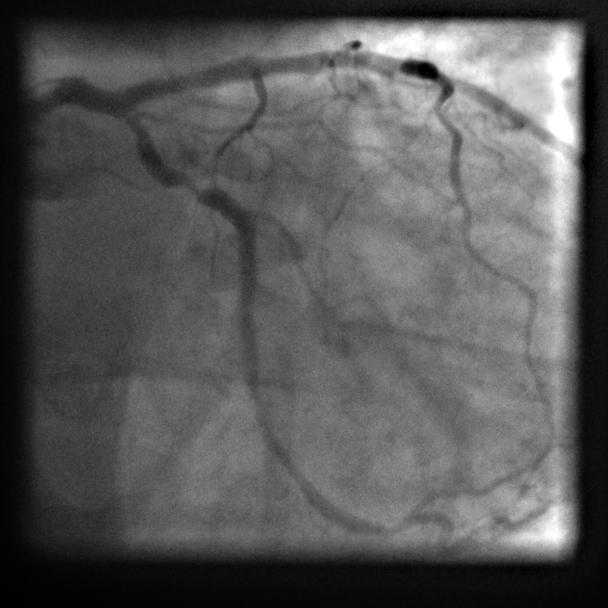Stenosis: (176, 170, 206, 200)
